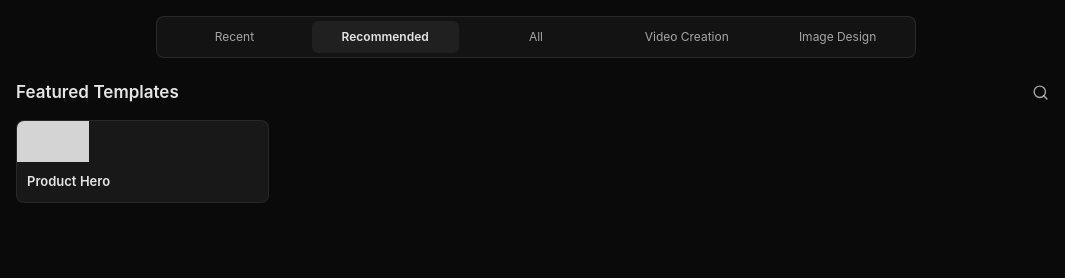
it: CreatorDashboard › matches localized English tags within the selected category
This screenshot has width=1065, height=278.
Click the tab "Image Design" at (838, 37), box [764, 21, 911, 53]
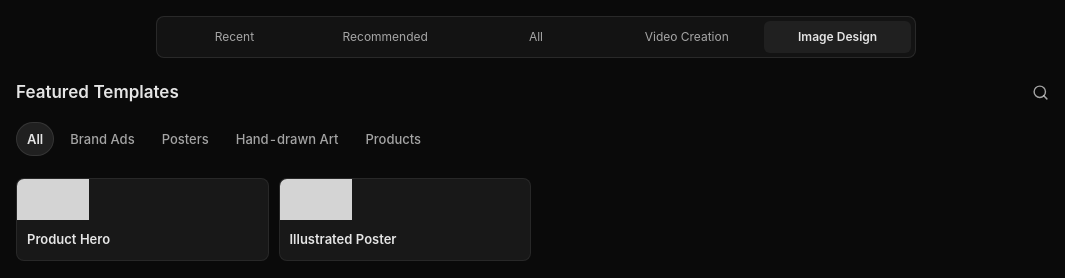
Expected: the button "Brand Ads" is shown
Expected: the button "Posters" is shown, [151, 122, 220, 156]
Click the button "Brand Ads" at (102, 139), box [59, 122, 146, 156]
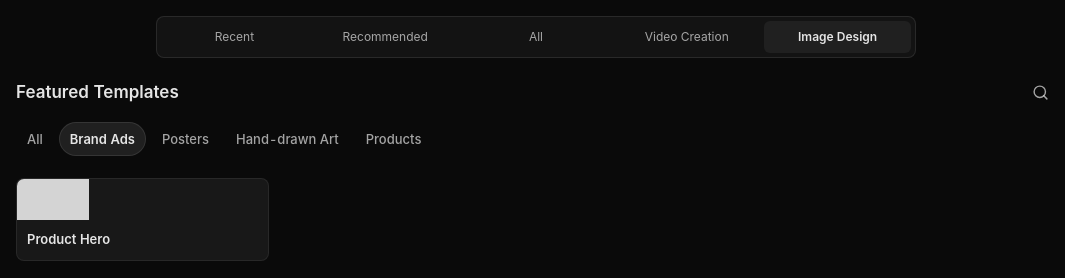
Expected: the button with aria-label "View Product Hero template details" is shown, [16, 178, 268, 260]
Expected: the tab "Image Design" is selected, [764, 21, 911, 53]
Click the button "All" at (35, 139), box [16, 122, 54, 156]
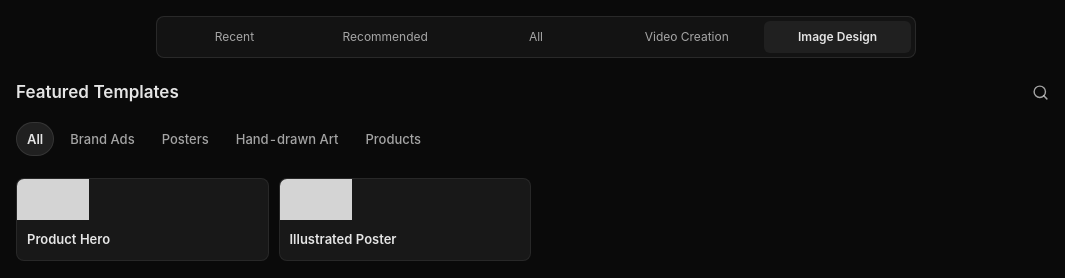
Expected: the button with aria-label "View Illustrated Poster template details" is shown, [278, 178, 531, 260]
